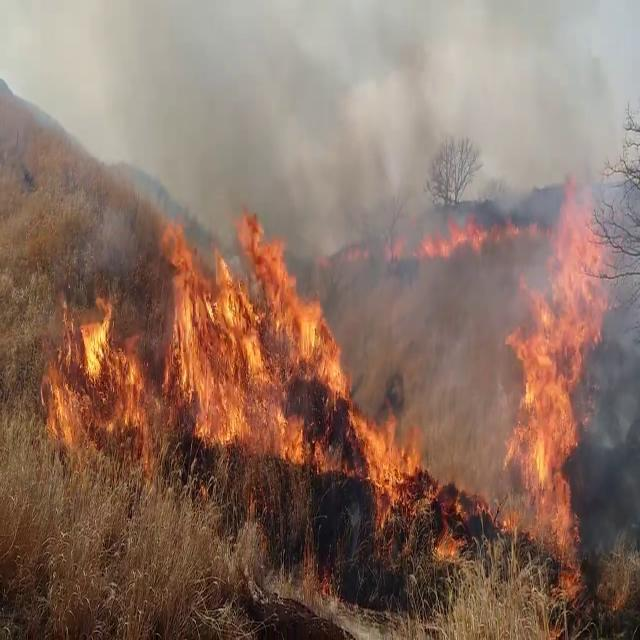Fire: (157, 199, 347, 455), (499, 182, 612, 582), (44, 287, 147, 447), (348, 396, 426, 536), (415, 208, 493, 260)
Smoke: (68, 0, 492, 324)
